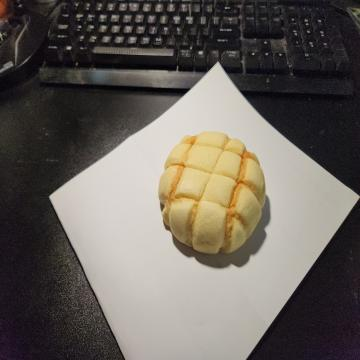melon_bread: (158, 134, 264, 252)
